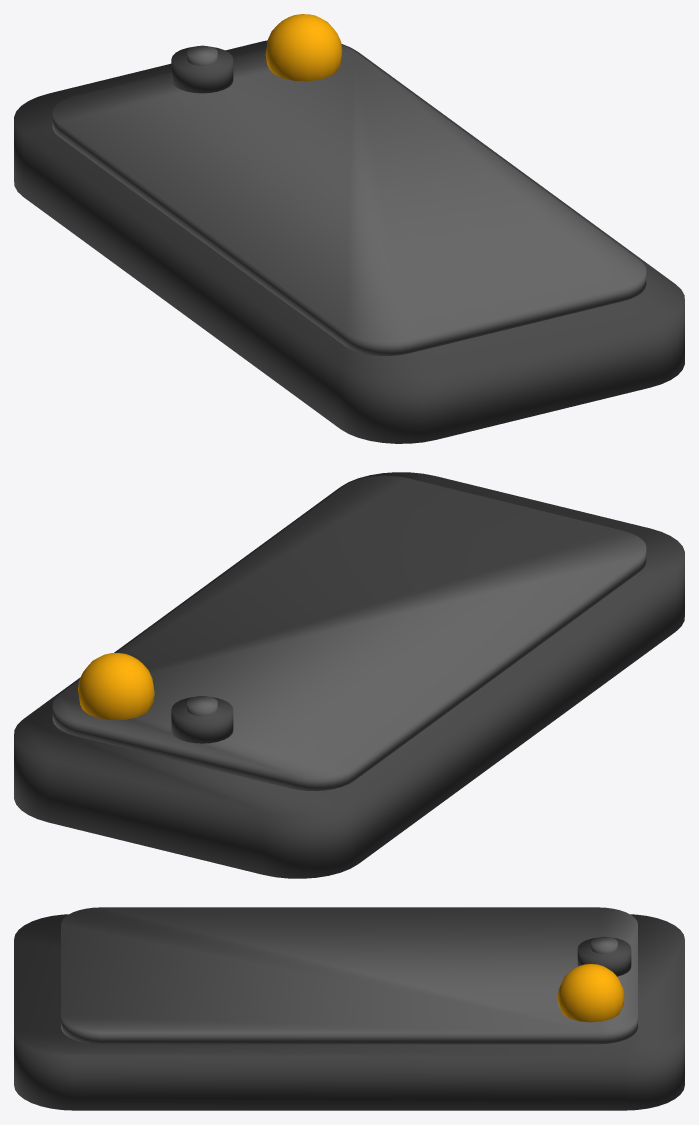
File: phone.glb
3 views of the same model, one above another, from view 1: azimuth 30°, elevation 25°; view 2: azimuth 150°, elevation 25°; view 3: azimuth 270°, elevation 25° (orthographic). The views are drawn at different scales.
Parts seen in each view (by area): view 1: PhScreen, PhBody, PhNotifDot, PhCamera; view 2: PhScreen, PhBody, PhNotifDot, PhCamera; view 3: PhScreen, PhBody, PhNotifDot, PhCamera, PhLens.
Part boxes in pixels (x1=…): PhScreen: x1=52, y1=45, x2=646, y2=355; PhBody: x1=14, y1=40, x2=684, y2=443; PhNotifDot: x1=265, y1=14, x2=342, y2=81; PhCamera: x1=171, y1=46, x2=233, y2=93; PhScreen: x1=52, y1=475, x2=646, y2=790; PhBody: x1=14, y1=472, x2=684, y2=878; PhNotifDot: x1=78, y1=653, x2=154, y2=720; PhCamera: x1=171, y1=697, x2=233, y2=743; PhScreen: x1=61, y1=907, x2=637, y2=1044; PhBody: x1=14, y1=914, x2=684, y2=1110; PhNotifDot: x1=557, y1=964, x2=624, y2=1022; PhCamera: x1=577, y1=937, x2=631, y2=976; PhLens: x1=591, y1=936, x2=617, y2=953.
Size of the model in its own units: 1 by 0.37 by 2.
